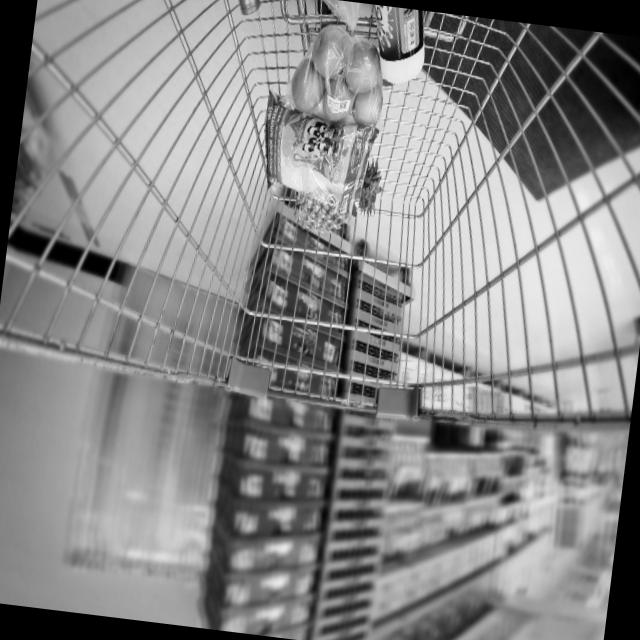apple: (286, 25, 395, 128)
milk: (366, 5, 438, 89)
pineapple: (279, 161, 383, 242)
